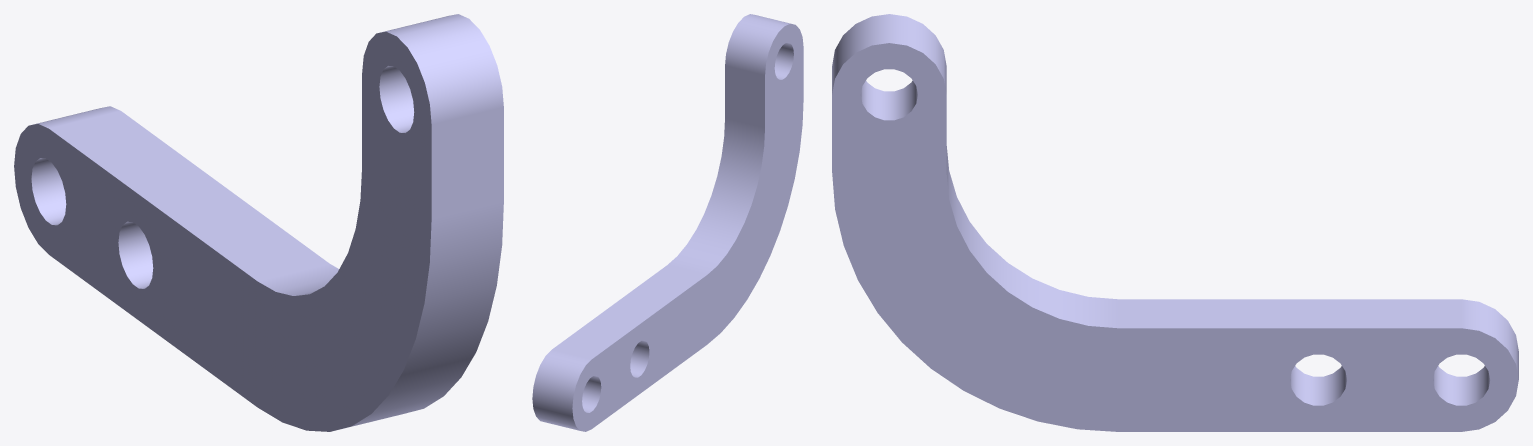
Rendered from 4 Palanca.fbx.
3 views of the same model, side by side, from view 1: azimuth 30°, elevation 25°; view 2: azimuth 150°, elevation 25°; view 3: azimuth 270°, elevation 25° (orthographic). The views are drawn at different scales.
Parts seen in each view (by area): view 1: PartBody; view 2: PartBody; view 3: PartBody.
Boxes of the visible parts, <box> form: PartBody: <box>14,14,503,431</box>; PartBody: <box>532,14,803,431</box>; PartBody: <box>832,14,1518,431</box>.
Size of the model in its own units: 1.2 by 7.5 by 12.
